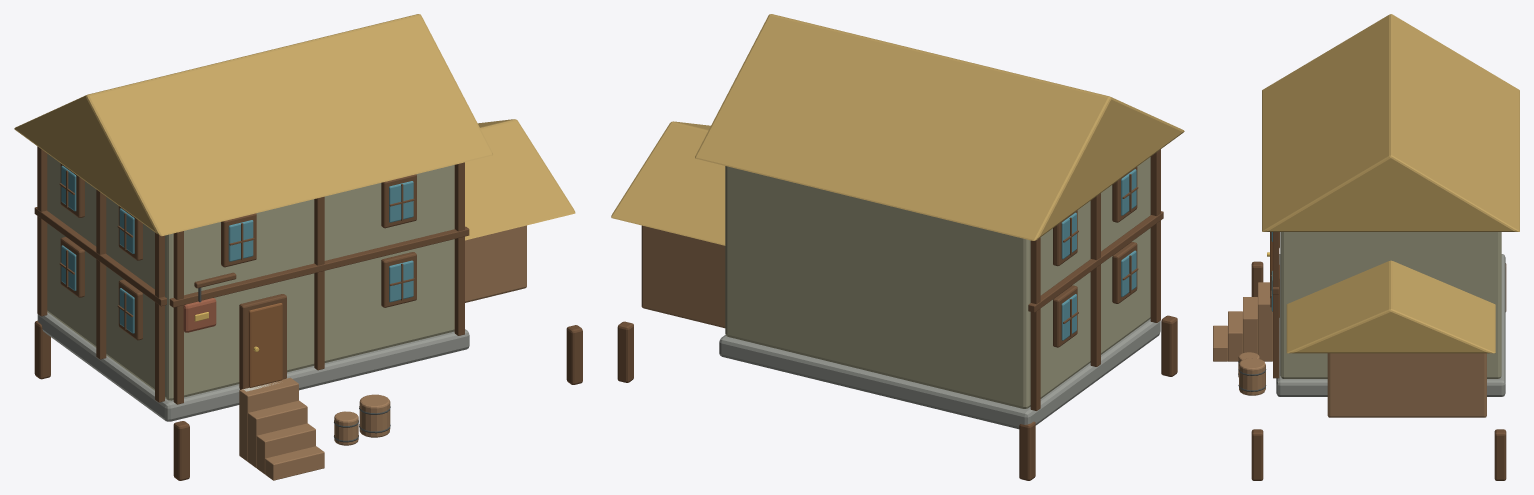
The model's file is wetland-inn-0.glb.
3 views of the same model, side by side, from view 1: azimuth 30°, elevation 25°; view 2: azimuth 150°, elevation 25°; view 3: azimuth 270°, elevation 25° (orthographic). The views are drawn at different scales.
Parts seen in each view (by area): view 1: Golden thatch, Weathered planks, Dark beams, Aged oak, Foundation stone, Blue glass, Door oak, Painted sign; view 2: Golden thatch, Weathered planks, Dark beams, Foundation stone, Aged oak, Blue glass; view 3: Golden thatch, Aged oak, Weathered planks, Dark beams, Foundation stone.
Boxes of the visible parts, <box> form: Golden thatch: <box>14,14,575,240</box>; Weathered planks: <box>47,154,454,400</box>; Dark beams: <box>34,146,582,480</box>; Aged oak: <box>239,225,526,480</box>; Foundation stone: <box>37,312,469,421</box>; Blue glass: <box>61,165,413,333</box>; Door oak: <box>248,303,282,387</box>; Painted sign: <box>183,298,216,332</box>; Golden thatch: <box>611,14,1184,245</box>; Weathered planks: <box>725,157,1150,408</box>; Dark beams: <box>617,149,1177,480</box>; Foundation stone: <box>719,319,1160,429</box>; Aged oak: <box>641,225,725,328</box>; Blue glass: <box>1061,169,1136,340</box>; Golden thatch: <box>1262,14,1519,353</box>; Aged oak: <box>1213,282,1486,417</box>; Weathered planks: <box>1280,232,1501,378</box>; Dark beams: <box>1251,232,1506,480</box>; Foundation stone: <box>1276,254,1505,396</box>.
Bounding box in the file's own units: 6.7 × 4.92 × 4.72.
